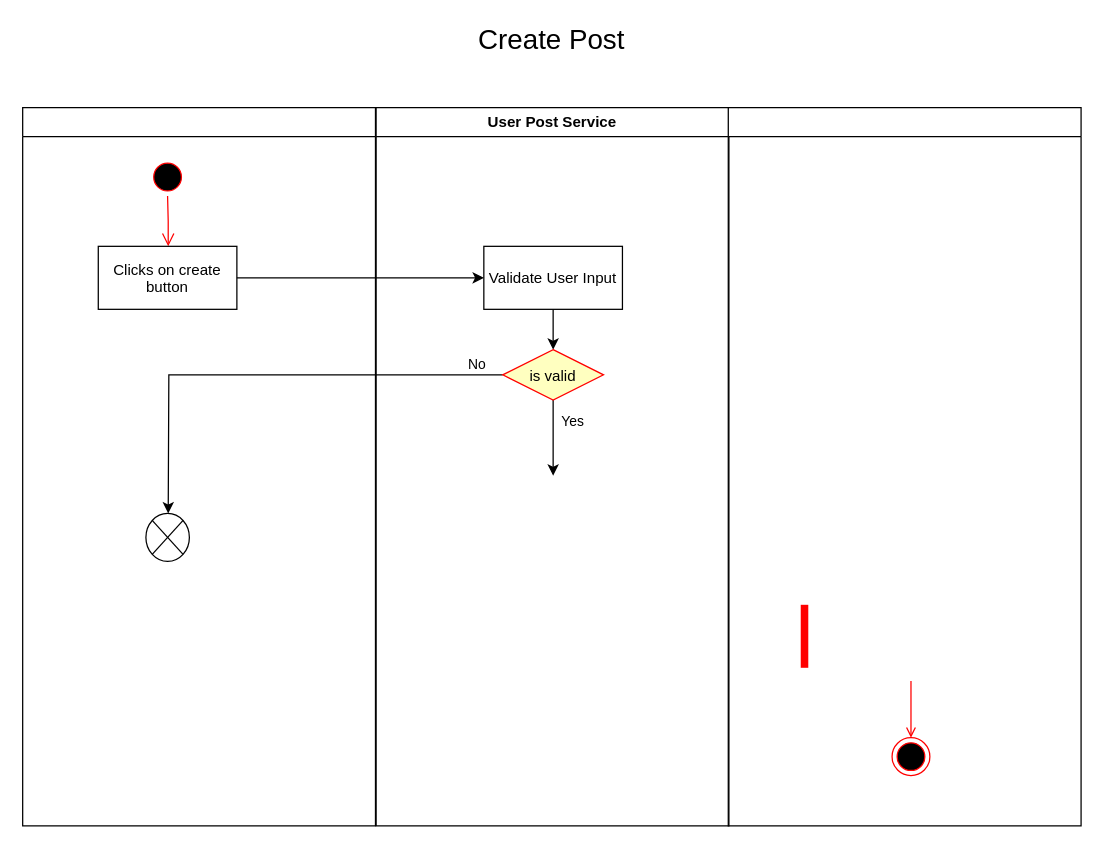
Image size: 1103x848. Some labels were removed from this diagram. The shapes that lost their labels are listed below. From the top down, each one's box as (x1, y1, x2, y2) in pixels, then its label:
(21, 106, 375, 826): User
(727, 106, 1081, 826): File Handling Service
